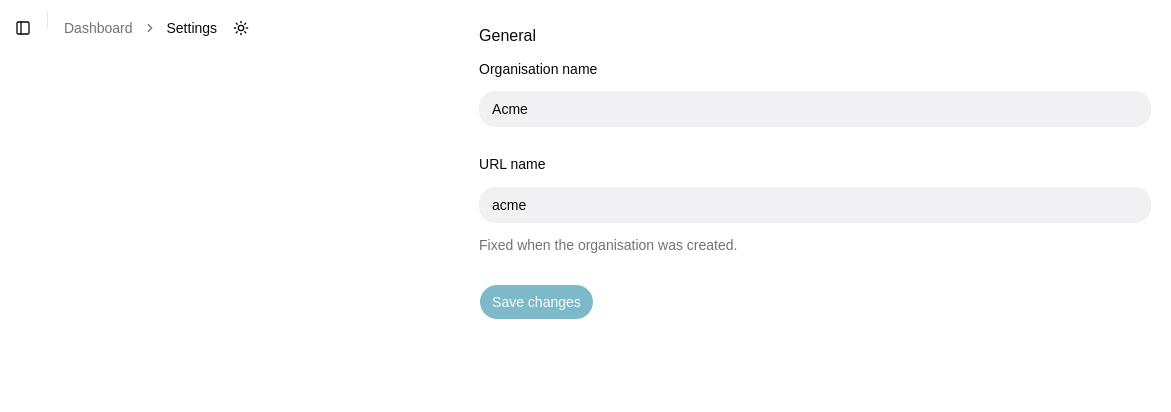
OrgSettingsPage › surfaces an update error
The width and height of the screenshot is (1171, 412).
Type "!" into the field labelled "Organisation name".
click(815, 109); type("!")  # box [479,91,1151,127]
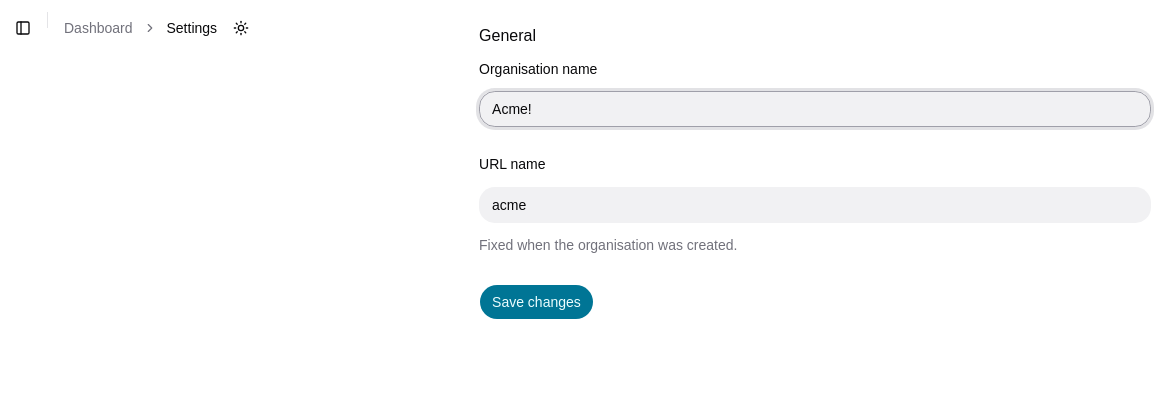
Click the button "Save changes".
click(536, 302)  # box [479,284,594,320]
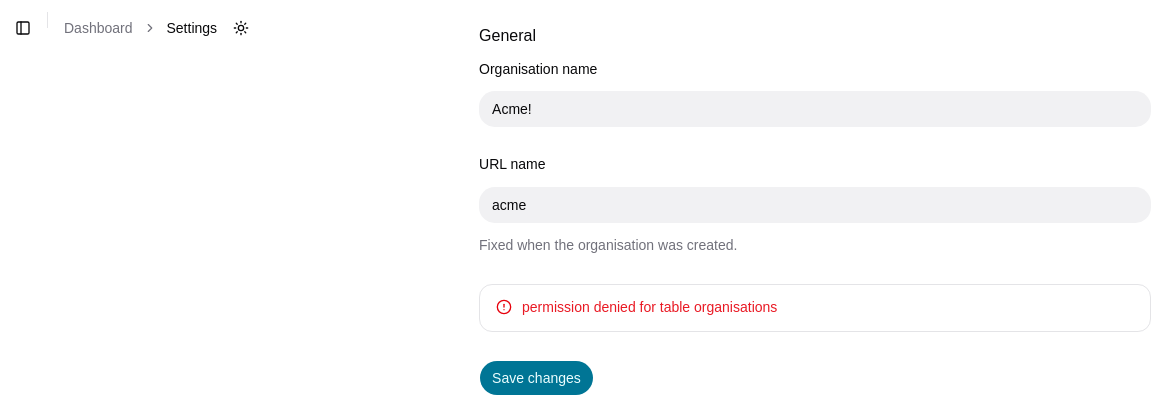
Result: the text "permission denied for table organisations" is shown at [522,298,777,314]
